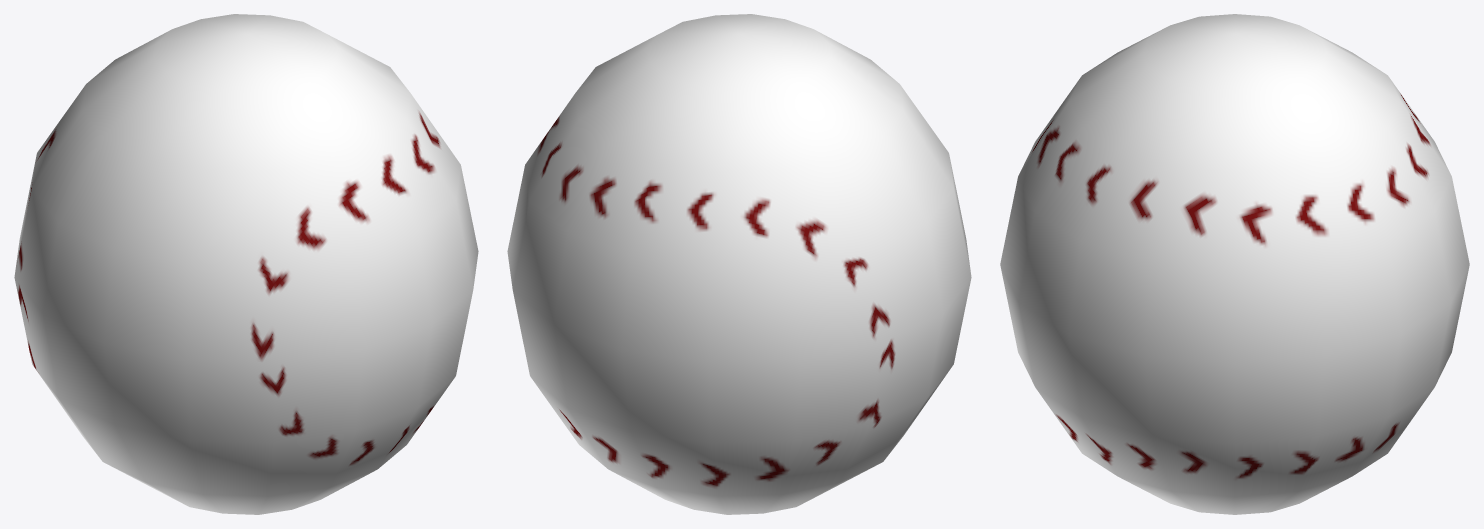
Rendered from baseball.fbx.
3 views of the same model, side by side, from view 1: azimuth 30°, elevation 25°; view 2: azimuth 150°, elevation 25°; view 3: azimuth 270°, elevation 25° (orthographic).
Parts seen in each view (by area): view 1: pSphere1; view 2: pSphere1; view 3: pSphere1.
Part boxes in pixels (x1,y1,x2,y2): pSphere1: (14,14,478,514); pSphere1: (507,14,971,514); pSphere1: (1000,14,1469,514).
Bounding box in the file's own units: 11.23 × 12.16 × 11.23.
